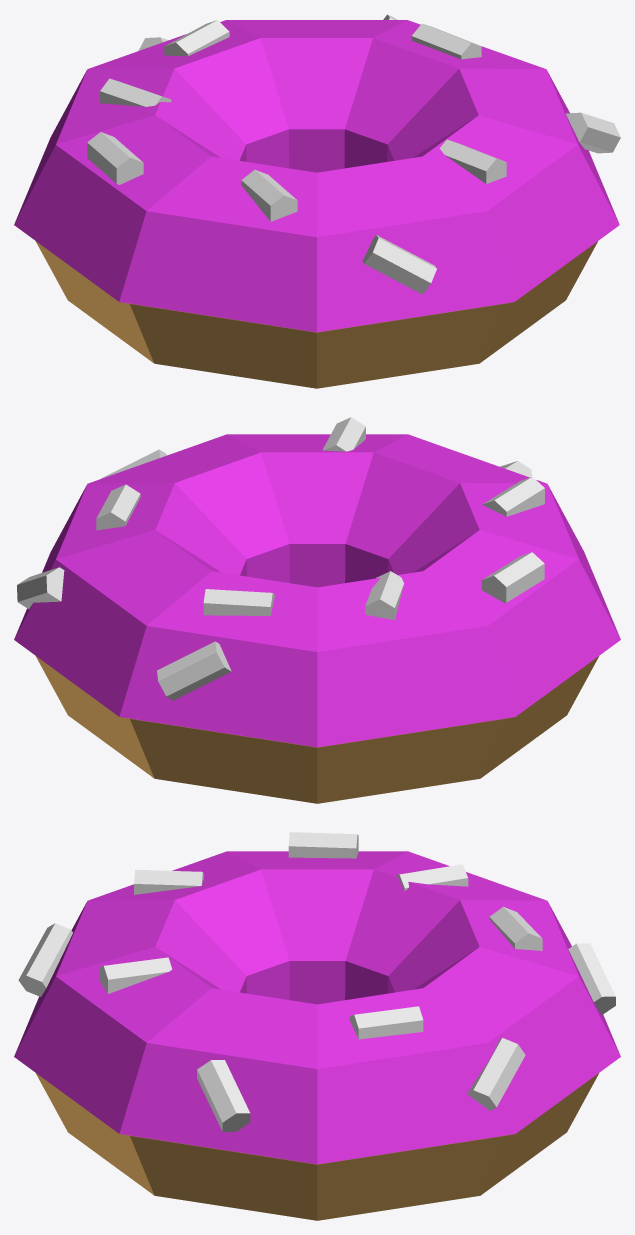
The picture shows the model from 3 angles, top to bottom: view 1: azimuth 30°, elevation 25°; view 2: azimuth 150°, elevation 25°; view 3: azimuth 270°, elevation 25°; orthographic projection.
Parts seen in each view (by area): view 1: Torus; view 2: Torus; view 3: Torus.
Part boxes in pixels (left/top/right/bottom): Torus: left=14, top=14, right=620, bottom=388; Torus: left=14, top=417, right=620, bottom=803; Torus: left=14, top=832, right=620, bottom=1220.
Size of the model in its own units: 246 by 91.38 by 250.
